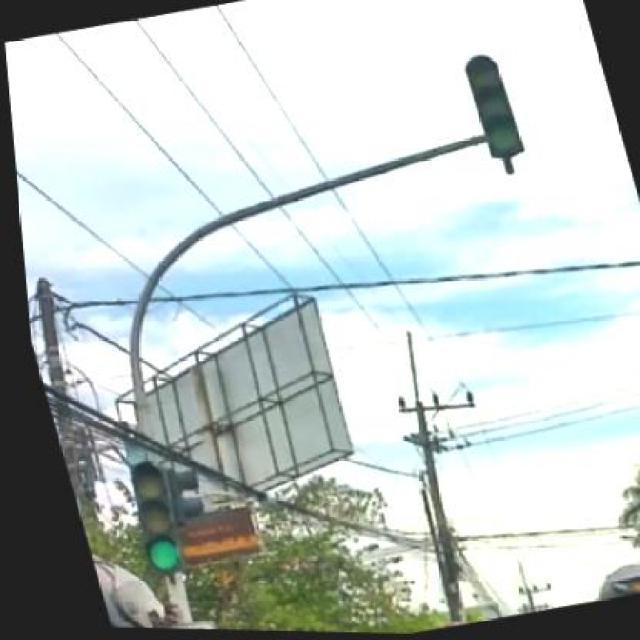green_light: (125, 458, 188, 580)
